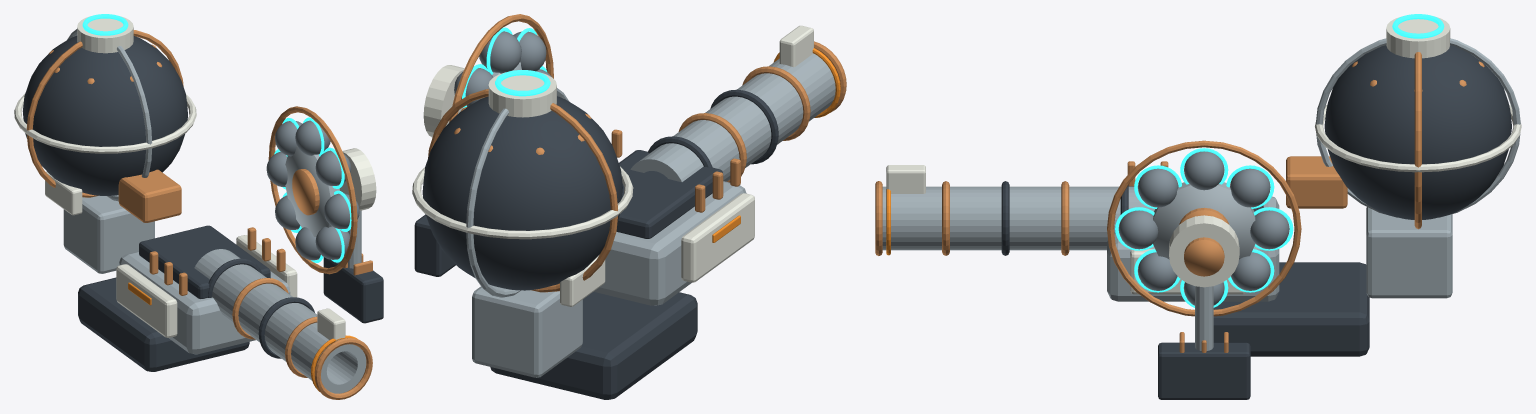
File: M01-017_rapid_ball_thrower.fbx
3 renders of one model, left to right at view 1: azimuth 30°, elevation 25°; view 2: azimuth 150°, elevation 25°; view 3: azimuth 270°, elevation 25°, orthographic. The views are drawn at different scales.
Parts seen in each view (by area): view 1: M01-017_Spherical_hopper, M01-017_Actual_hollow_bore, M01-017_Socket_foot, M01-017_Hopper_pedestal, M01-017_Receiver, M01-017_Receiver_top, M01-017_Bearing_pedestal, M01-017_Feed_neck, M01-017_Side_ceramic_-1, M01-017_Rotor_outer_guard, M01-017_Hopper_equator, M01-017_Rotor_disc (+23 smaller); view 2: M01-017_Spherical_hopper, M01-017_Socket_foot, M01-017_Actual_hollow_bore, M01-017_Hopper_pedestal, M01-017_Receiver, M01-017_Receiver_top, M01-017_Side_ceramic_-1, M01-017_Hopper_equator, M01-017_Hopper_meridian_1, M01-017_Hopper_fill_cap, M01-017_Hopper_meridian_2, M01-017_Bearing_outer (+14 smaller); view 3: M01-017_Spherical_hopper, M01-017_Actual_hollow_bore, M01-017_Socket_foot, M01-017_Hopper_pedestal, M01-017_Bearing_pedestal, M01-017_Rotor_outer_guard, M01-017_Rotor_disc, M01-017_Bearing_outer, M01-017_Feed_neck, M01-017_Hopper_meridian_2, M01-017_Receiver, M01-017_Hopper_equator (+18 smaller).
Boxes of the visible parts, x1,y1,x2,y2 form: M01-017_Spherical_hopper: (22, 36, 187, 195); M01-017_Actual_hollow_bore: (194, 249, 366, 393); M01-017_Socket_foot: (78, 277, 249, 371); M01-017_Hopper_pedestal: (63, 195, 154, 273); M01-017_Receiver: (119, 251, 290, 354); M01-017_Receiver_top: (139, 225, 270, 298); M01-017_Bearing_pedestal: (323, 257, 383, 323); M01-017_Feed_neck: (118, 169, 181, 222); M01-017_Side_ceramic_-1: (116, 264, 177, 337); M01-017_Rotor_outer_guard: (268, 106, 357, 274); M01-017_Hopper_equator: (14, 94, 196, 153); M01-017_Rotor_disc: (285, 146, 339, 236); M01-017_Spherical_hopper: (422, 96, 622, 290); M01-017_Socket_foot: (490, 291, 697, 399); M01-017_Actual_hollow_bore: (630, 53, 835, 182); M01-017_Hopper_pedestal: (472, 285, 582, 377); M01-017_Receiver: (594, 181, 746, 305); M01-017_Receiver_top: (616, 150, 722, 238); M01-017_Side_ceramic_-1: (681, 193, 754, 282); M01-017_Hopper_equator: (412, 166, 633, 239); M01-017_Hopper_meridian_1: (428, 89, 617, 292); M01-017_Hopper_fill_cap: (488, 72, 556, 117); M01-017_Hopper_meridian_2: (466, 88, 569, 297); M01-017_Bearing_outer: (423, 65, 464, 137); M01-017_Spherical_hopper: (1324, 45, 1511, 219); M01-017_Actual_hollow_bore: (882, 186, 1154, 250); M01-017_Socket_foot: (1213, 262, 1369, 356); M01-017_Hopper_pedestal: (1366, 207, 1452, 298); M01-017_Bearing_pedestal: (1158, 342, 1250, 399); M01-017_Rotor_outer_guard: (1107, 140, 1301, 316); M01-017_Rotor_disc: (1153, 182, 1255, 259); M01-017_Bearing_outer: (1169, 215, 1239, 287); M01-017_Feed_neck: (1286, 156, 1347, 208); M01-017_Hopper_meridian_2: (1315, 38, 1520, 217); M01-017_Receiver: (1107, 196, 1279, 301); M01-017_Hopper_equator: (1315, 104, 1521, 172).
Size of the model in its own units: 145 by 156 by 293.
